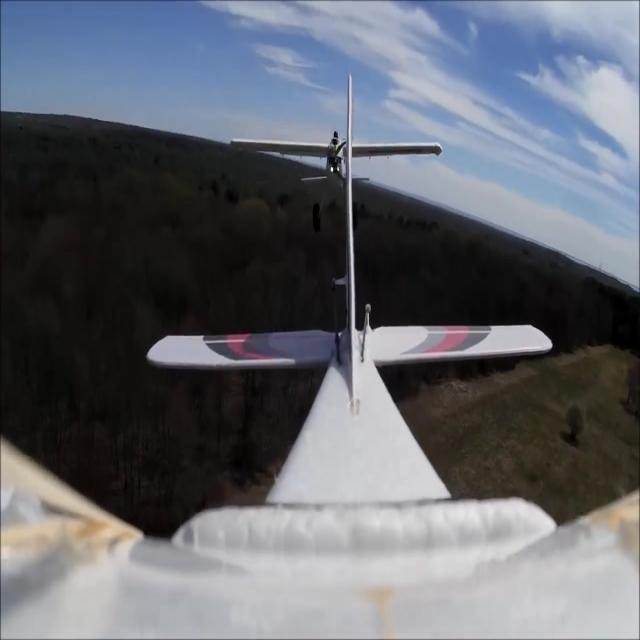iha: (228, 161, 443, 204)
